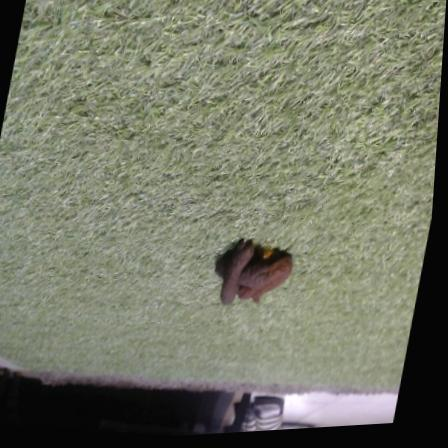dog-poop: (209, 234, 307, 320)
